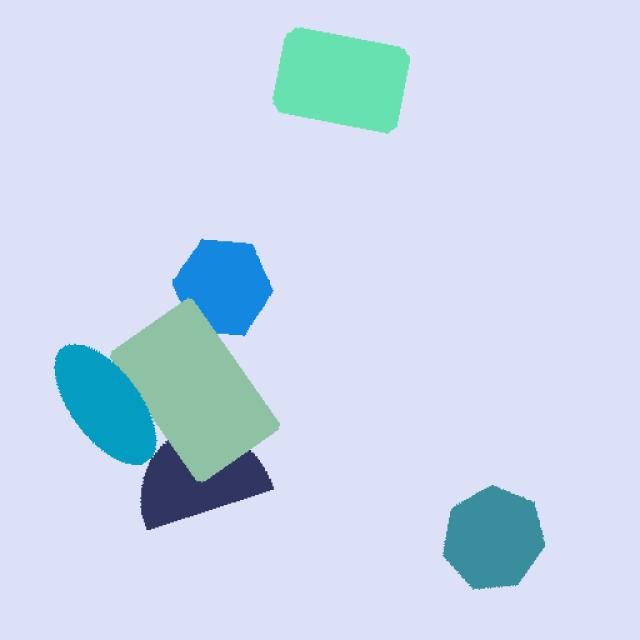Heptagon: (434, 465, 562, 603)
Hexagon: (158, 226, 280, 338)
Oval: (49, 328, 162, 484)
Rectangle: (103, 296, 285, 482), (247, 20, 436, 158)
Semicircle: (124, 403, 302, 535)
